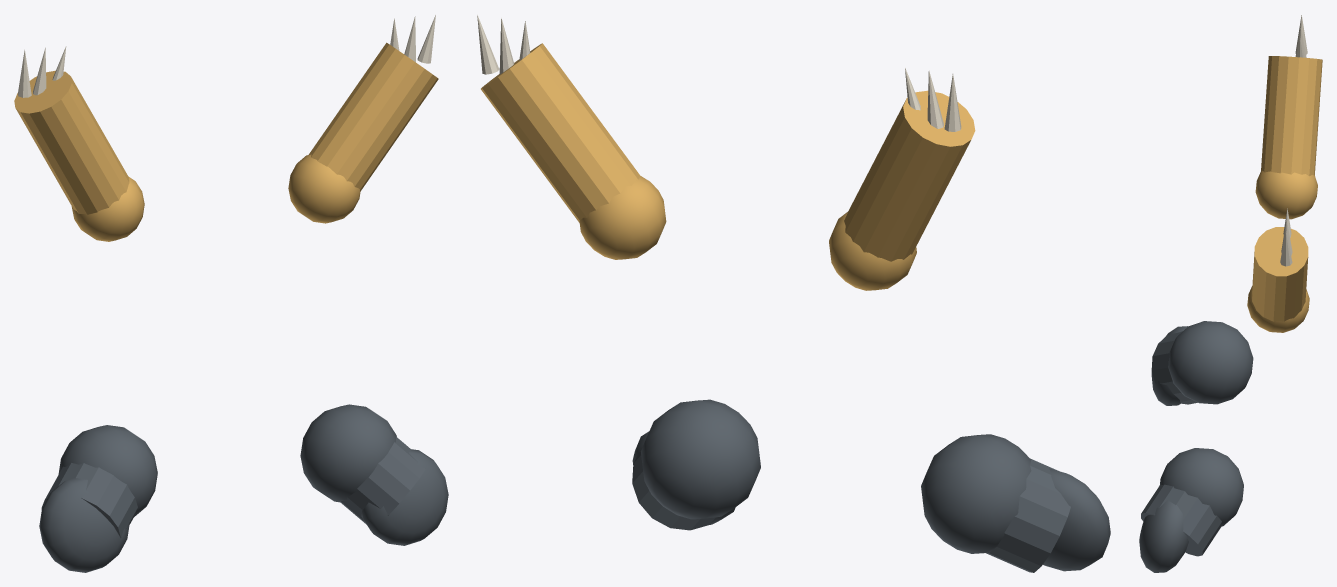
Rendered from SM_Keeper_Ammit_Legs.fbx.
3 views of the same model, side by side, from view 1: azimuth 30°, elevation 25°; view 2: azimuth 150°, elevation 25°; view 3: azimuth 270°, elevation 25° (orthographic). The views are drawn at different scales.
Parts seen in each view (by area): view 1: SM_Keeper_Ammit_Legs; view 2: SM_Keeper_Ammit_Legs; view 3: SM_Keeper_Ammit_Legs.
Part boxes in pixels (x1=…): SM_Keeper_Ammit_Legs: x1=14, y1=15, x2=448, y2=572; SM_Keeper_Ammit_Legs: x1=477, y1=15, x2=1110, y2=572; SM_Keeper_Ammit_Legs: x1=1139, y1=15, x2=1322, y2=572.
Bounding box in the file's own units: 3.63 × 3.84 × 1.48.
